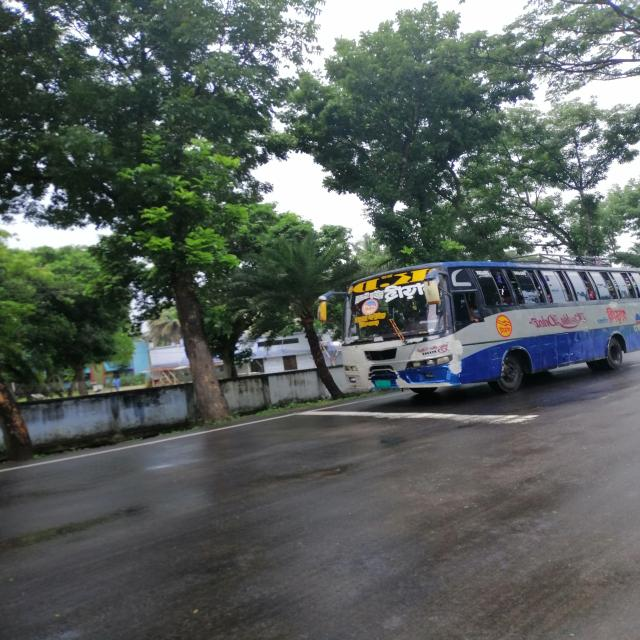Bus: (317, 253, 640, 398)
